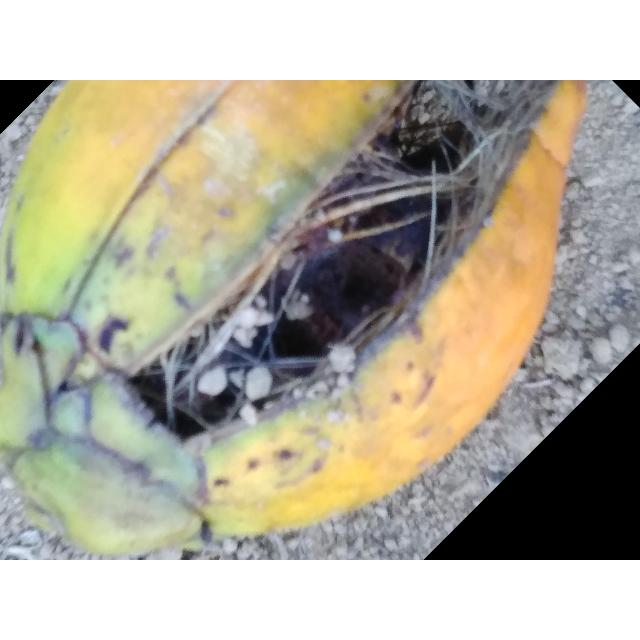damaged: (0, 80, 589, 557)
